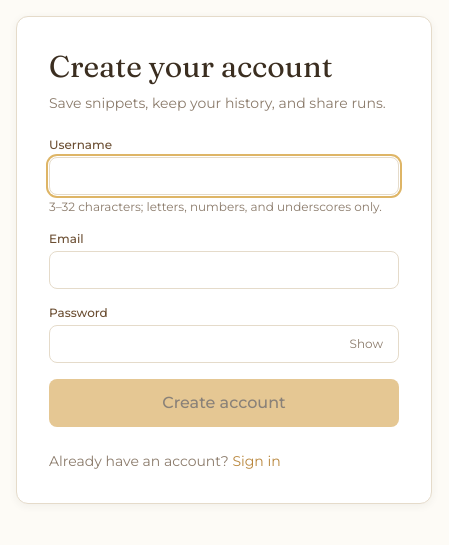
Test: RegisterPage › renders a password strength meter as the user types
Type "Secret123!longer" into the password field labelled "Password".
click(224, 344); type("Secret123!longer")  # box [49, 325, 399, 363]
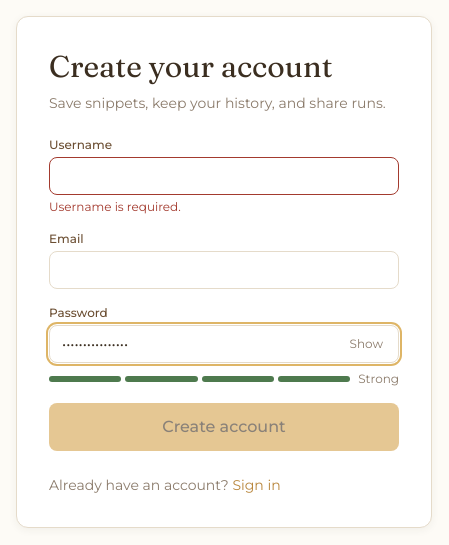
Check: the text "Strong" is shown, box [358, 371, 399, 387]
